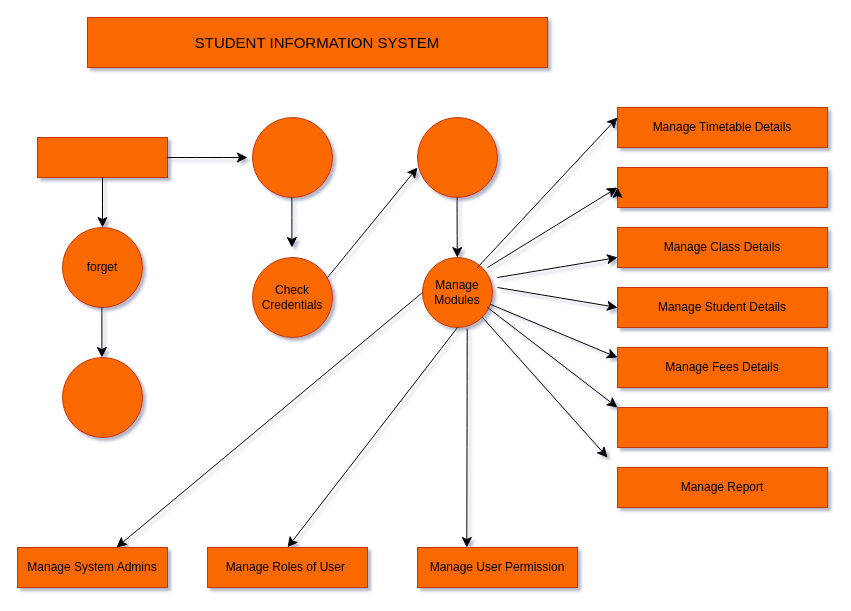
Image size: 851x611. Some labels were removed from this diagram. Each missing label, with the centre of its shape:
"Admin" belongs at point 102,157.
"Check Roles of Access" belongs at point 457,157.
"Login to System" belongs at point 292,157.
"Manage Attendence Details" belongs at point 722,187.
"Manage Teacher Profiles" belongs at point 722,427.
"Send Email to user" belongs at point 102,397.
